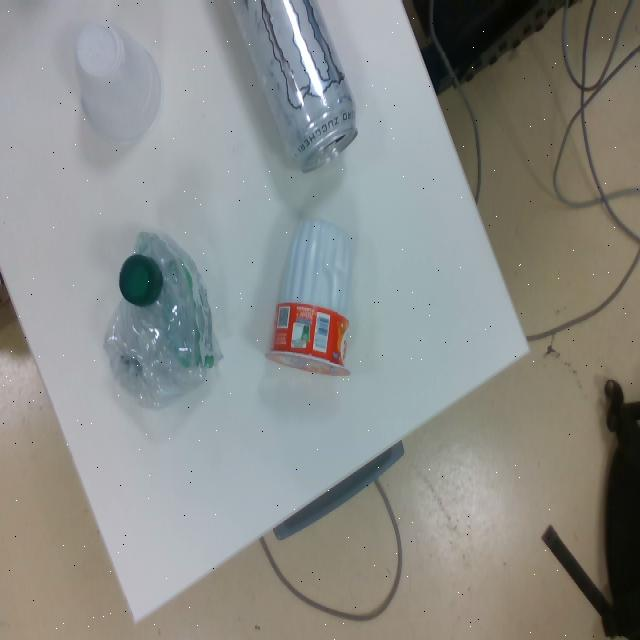aluminum: (217, 0, 360, 179)
plastic: (102, 227, 227, 414), (269, 215, 358, 382), (70, 17, 169, 148)
